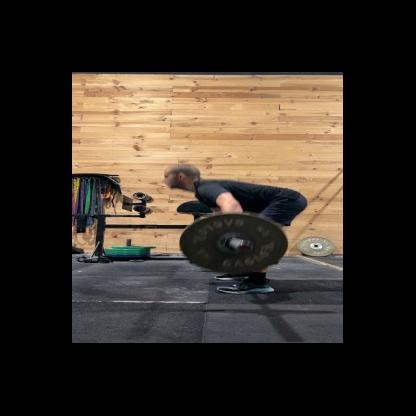barbell: (180, 214, 289, 274)
